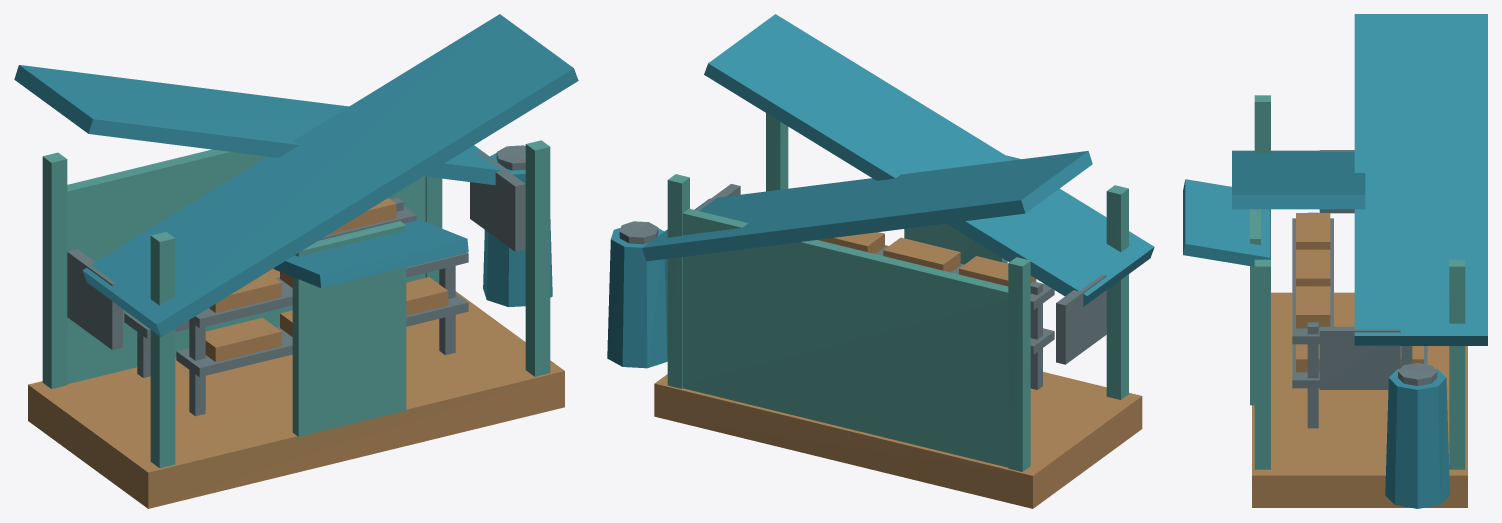
The model's file is mushroom-house.source.glb.
3 renders of one model, left to right at view 1: azimuth 30°, elevation 25°; view 2: azimuth 150°, elevation 25°; view 3: azimuth 270°, elevation 25°, orthographic. The views are drawn at different scales.
Parts seen in each view (by area): view 1: mushroom-house-roof-panel-mesh (×2), mushroom-house-low-curb-mesh, mushroom-house-corner-post-mesh (×4), mushroom-house-door-panel-mesh, mushroom-house-rear-wall-mesh, mushroom-house-vent-shutter-mesh (×2), mushroom-house-entrance-awning-mesh, mushroom-house-substrate-tray-mesh (×4), mushroom-house-rack-shelf-mesh (×2), mushroom-house-external-water-barrel-mesh, mushroom-house-rack-leg-mesh (×2), mushroom-house-barrel-cap-mesh; view 2: mushroom-house-rear-wall-mesh, mushroom-house-roof-panel-mesh (×2), mushroom-house-low-curb-mesh, mushroom-house-corner-post-mesh (×4), mushroom-house-external-water-barrel-mesh, mushroom-house-substrate-tray-mesh (×3), mushroom-house-vent-shutter-mesh, mushroom-house-door-panel-mesh, mushroom-house-rack-leg-mesh, mushroom-house-barrel-cap-mesh; view 3: mushroom-house-roof-panel-mesh (×2), mushroom-house-low-curb-mesh, mushroom-house-external-water-barrel-mesh, mushroom-house-corner-post-mesh (×3), mushroom-house-entrance-awning-mesh, mushroom-house-substrate-tray-mesh (×4), mushroom-house-vent-shutter-mesh, mushroom-house-rear-wall-mesh, mushroom-house-rack-shelf-mesh (×2), mushroom-house-door-panel-mesh, mushroom-house-rack-leg-mesh, mushroom-house-barrel-cap-mesh.
Boxes of the visible parts, x1=… form: mushroom-house-roof-panel-mesh (×2): x1=14, y1=14, x2=578, y2=336; mushroom-house-low-curb-mesh: x1=28, y1=291, x2=564, y2=508; mushroom-house-corner-post-mesh (×4): x1=42, y1=140, x2=550, y2=468; mushroom-house-door-panel-mesh: x1=292, y1=221, x2=406, y2=436; mushroom-house-rear-wall-mesh: x1=43, y1=149, x2=425, y2=387; mushroom-house-vent-shutter-mesh (×2): x1=67, y1=151, x2=525, y2=349; mushroom-house-entrance-awning-mesh: x1=273, y1=220, x2=468, y2=288; mushroom-house-substrate-tray-mesh (×4): x1=205, y1=198, x2=448, y2=361; mushroom-house-rack-shelf-mesh (×2): x1=176, y1=252, x2=468, y2=377; mushroom-house-external-water-barrel-mesh: x1=483, y1=153, x2=552, y2=307; mushroom-house-rack-leg-mesh (×2): x1=189, y1=266, x2=455, y2=416; mushroom-house-barrel-cap-mesh: x1=496, y1=145, x2=525, y2=170; mushroom-house-rear-wall-mesh: x1=682, y1=208, x2=1029, y2=470; mushroom-house-roof-panel-mesh (×2): x1=642, y1=14, x2=1154, y2=306; mushroom-house-low-curb-mesh: x1=654, y1=372, x2=1142, y2=508; mushroom-house-corner-post-mesh (×4): x1=667, y1=113, x2=1128, y2=471; mushroom-house-external-water-barrel-mesh: x1=607, y1=228, x2=667, y2=368; mushroom-house-substrate-tray-mesh (×3): x1=818, y1=232, x2=1036, y2=286; mushroom-house-vent-shutter-mesh: x1=1056, y1=274, x2=1106, y2=364; mushroom-house-door-panel-mesh: x1=904, y1=223, x2=1007, y2=264; mushroom-house-rack-leg-mesh: x1=1030, y1=281, x2=1042, y2=389; mushroom-house-barrel-cap-mesh: x1=619, y1=221, x2=658, y2=244; mushroom-house-roof-panel-mesh (×2): x1=1232, y1=14, x2=1487, y2=345; mushroom-house-low-curb-mesh: x1=1252, y1=292, x2=1467, y2=507; mushroom-house-external-water-barrel-mesh: x1=1385, y1=368, x2=1449, y2=508; mushroom-house-corner-post-mesh (×3): x1=1254, y1=95, x2=1465, y2=469; mushroom-house-entrance-awning-mesh: x1=1183, y1=179, x2=1270, y2=266; mushroom-house-substrate-tray-mesh (×4): x1=1296, y1=213, x2=1330, y2=372; mushroom-house-vent-shutter-mesh: x1=1319, y1=326, x2=1400, y2=389; mushroom-house-rear-wall-mesh: x1=1451, y1=296, x2=1463, y2=468; mushroom-house-rack-shelf-mesh (×2): x1=1292, y1=218, x2=1333, y2=388; mushroom-house-door-panel-mesh: x1=1250, y1=209, x2=1260, y2=405; mushroom-house-rack-leg-mesh: x1=1307, y1=322, x2=1318, y2=428; mushroom-house-barrel-cap-mesh: x1=1398, y1=363, x2=1437, y2=385.
Size of the model in its own units: 2.86 by 1.91 by 1.69.
